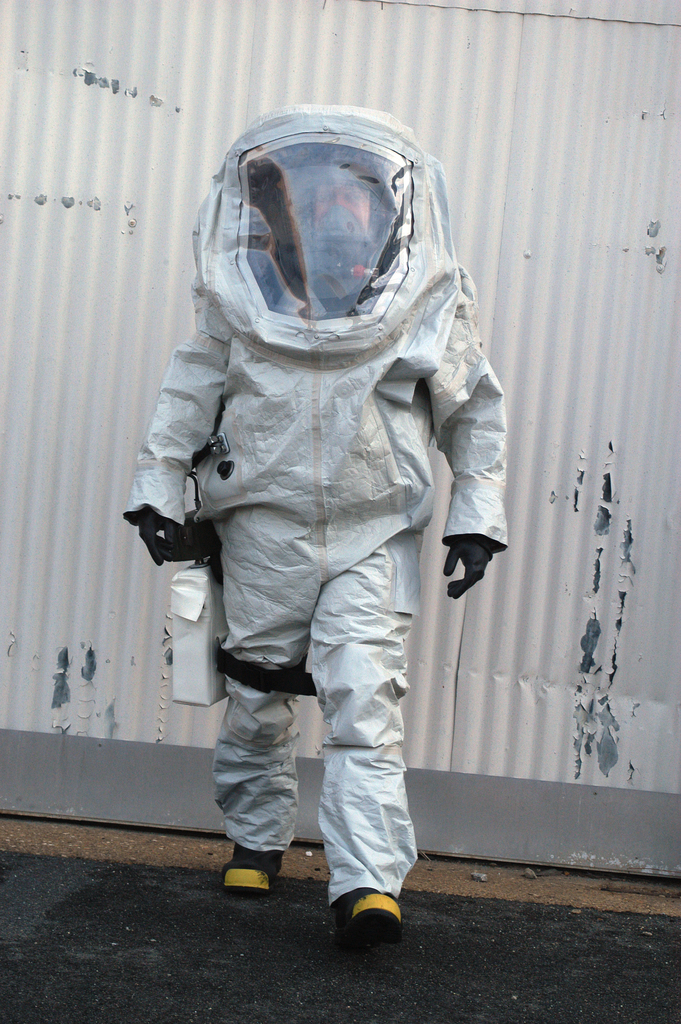Person: (122, 103, 509, 945)
